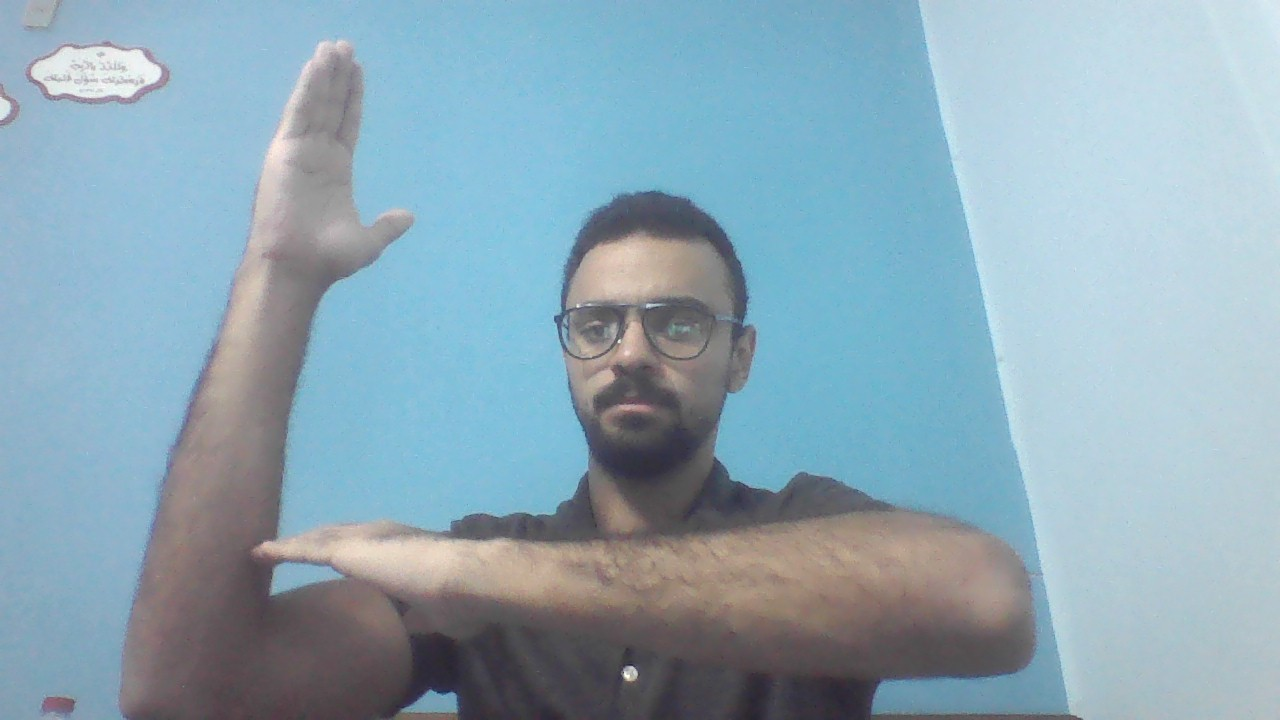morning: (122, 29, 1036, 708)
